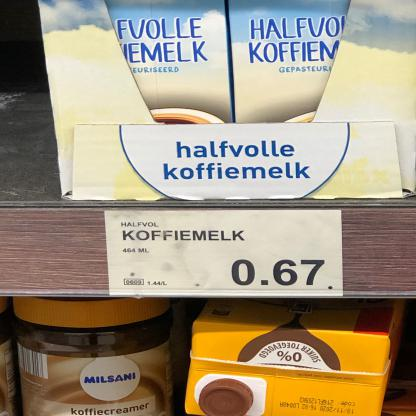prtg: (105, 211, 345, 298)
